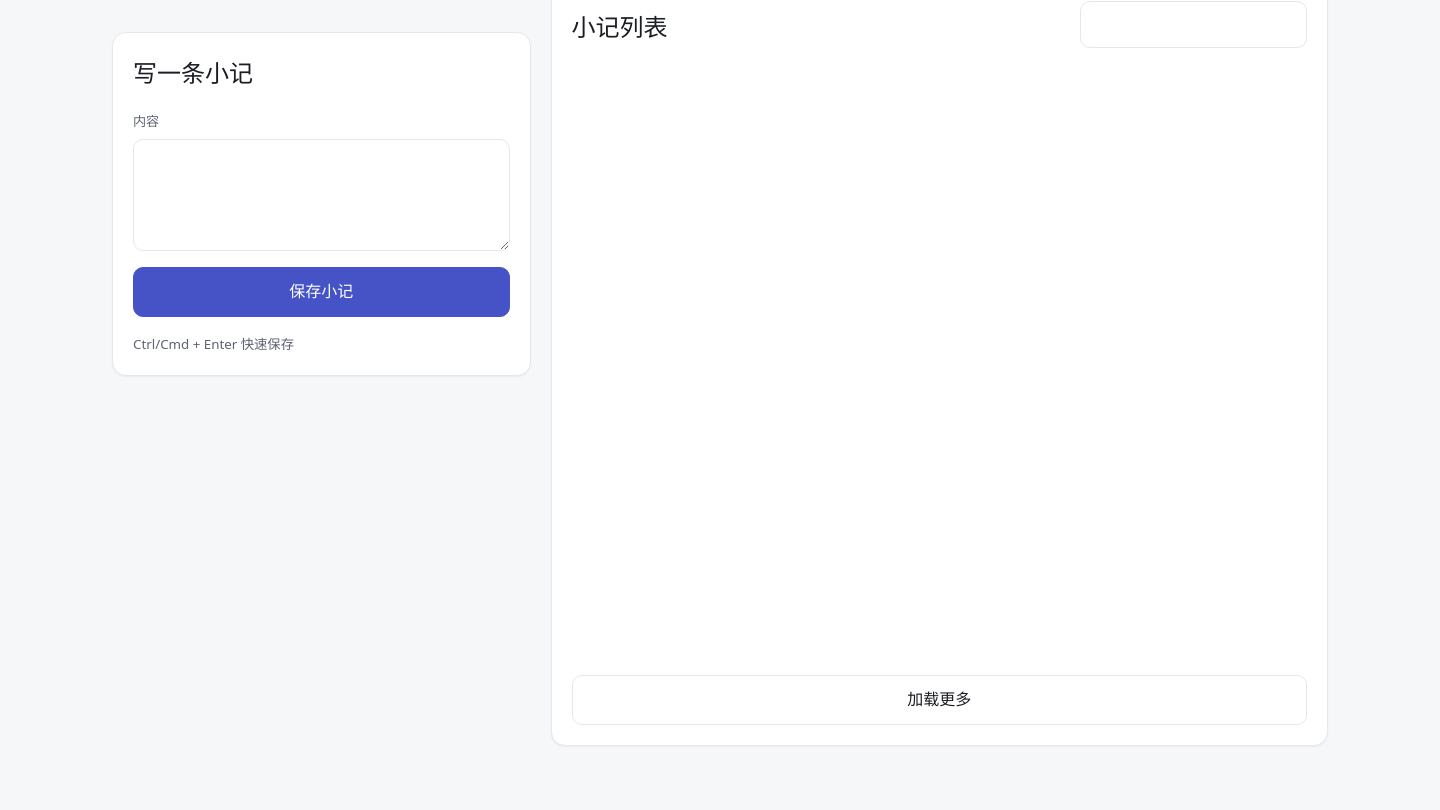
Test case: business pages › appends the next notes page when the list reports a cursor
The width and height of the screenshot is (1440, 810).
(page scrolled)
Check: the text "第六条小记" is not shown
Click the button "加载更多" at (939, 700), box [572,675,1307,725]
(page scrolled)
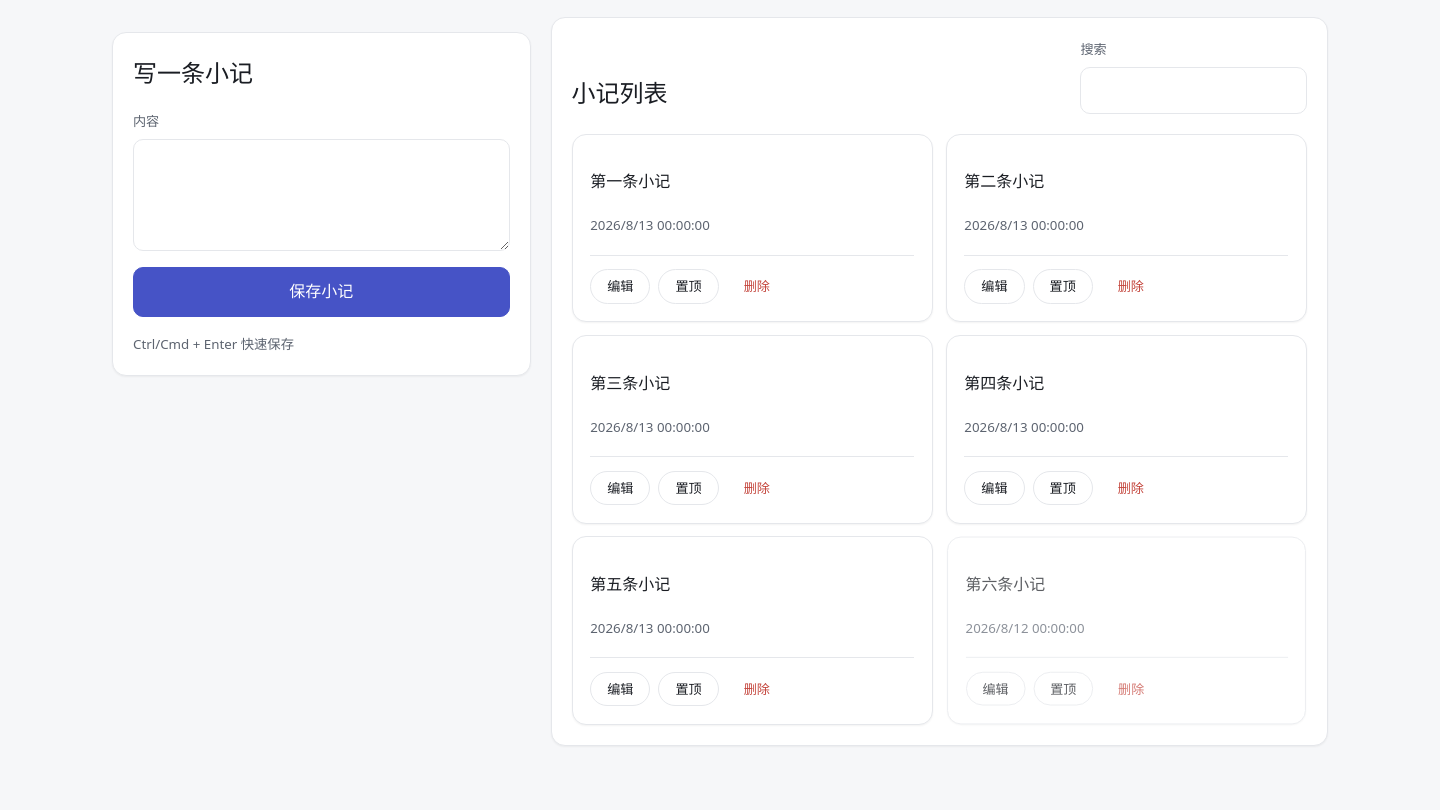
Check: the text "第六条小记" is shown, box [965,573,1044,595]
Check: the text "第一条小记" is shown, box [590,170,670,192]
Check: the button "加载更多" is gone
